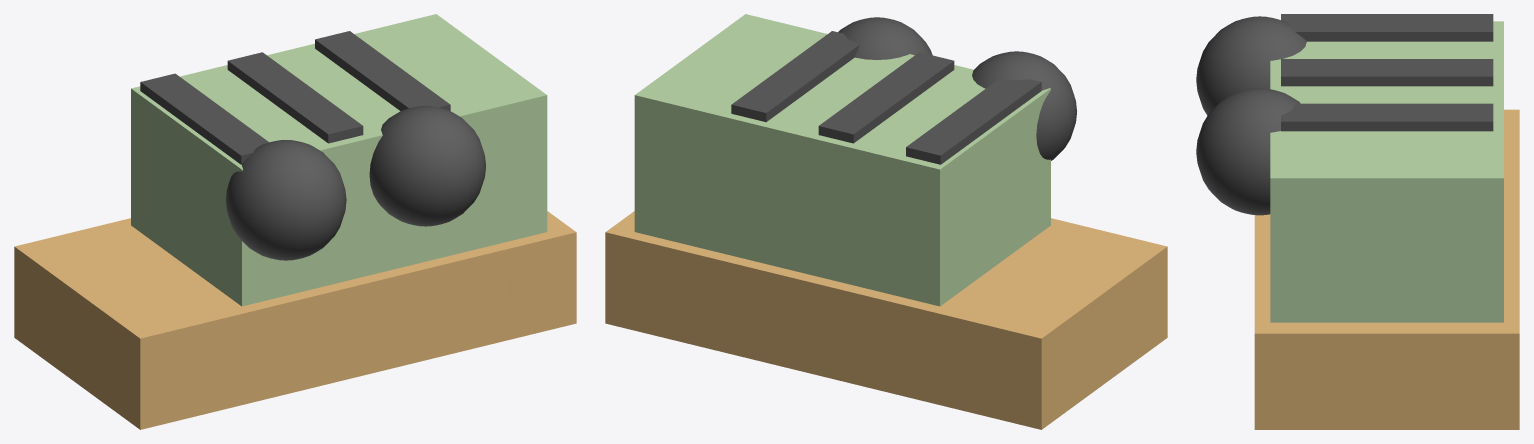
File: clay_sneaker_char.glb
3 views of the same model, side by side, from view 1: azimuth 30°, elevation 25°; view 2: azimuth 150°, elevation 25°; view 3: azimuth 270°, elevation 25° (orthographic). The views are drawn at different scales.
Parts seen in each view (by area): view 1: clay_sneaker_char, clay_sneaker_char.001, clay_sneaker_char.005, clay_sneaker_char.006, clay_sneaker_char.003, clay_sneaker_char.002, clay_sneaker_char.004; view 2: clay_sneaker_char.001, clay_sneaker_char, clay_sneaker_char.003, clay_sneaker_char.005, clay_sneaker_char.002, clay_sneaker_char.004, clay_sneaker_char.006; view 3: clay_sneaker_char.001, clay_sneaker_char, clay_sneaker_char.006, clay_sneaker_char.005, clay_sneaker_char.004, clay_sneaker_char.003, clay_sneaker_char.002.
Boxes of the visible parts, x1=… form: clay_sneaker_char: x1=14, y1=211, x2=576, y2=429; clay_sneaker_char.001: x1=131, y1=14, x2=547, y2=306; clay_sneaker_char.005: x1=225, y1=140, x2=346, y2=260; clay_sneaker_char.006: x1=369, y1=105, x2=485, y2=226; clay_sneaker_char.003: x1=227, y1=52, x2=363, y2=143; clay_sneaker_char.002: x1=140, y1=73, x2=268, y2=164; clay_sneaker_char.004: x1=315, y1=31, x2=450, y2=111; clay_sneaker_char.001: x1=634, y1=14, x2=1050, y2=306; clay_sneaker_char: x1=605, y1=211, x2=1167, y2=429; clay_sneaker_char.003: x1=818, y1=52, x2=954, y2=143; clay_sneaker_char.005: x1=972, y1=51, x2=1076, y2=160; clay_sneaker_char.002: x1=906, y1=78, x2=1041, y2=164; clay_sneaker_char.004: x1=731, y1=31, x2=860, y2=122; clay_sneaker_char.006: x1=838, y1=17, x2=932, y2=59; clay_sneaker_char.001: x1=1270, y1=21, x2=1503, y2=322; clay_sneaker_char: x1=1254, y1=109, x2=1519, y2=429; clay_sneaker_char.006: x1=1196, y1=88, x2=1300, y2=215; clay_sneaker_char.005: x1=1196, y1=16, x2=1306, y2=115; clay_sneaker_char.004: x1=1281, y1=103, x2=1493, y2=131; clay_sneaker_char.003: x1=1281, y1=59, x2=1493, y2=86; clay_sneaker_char.002: x1=1281, y1=14, x2=1493, y2=41.
Size of the model in its own units: 0.5 by 0.27 by 0.305.
